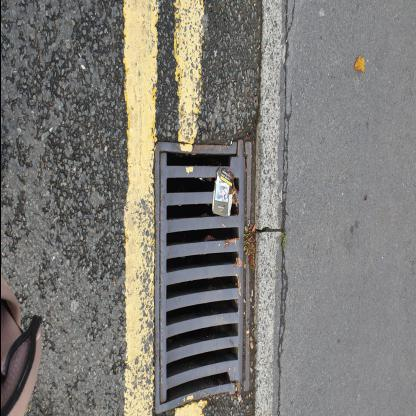karton: (212, 168, 234, 218)
